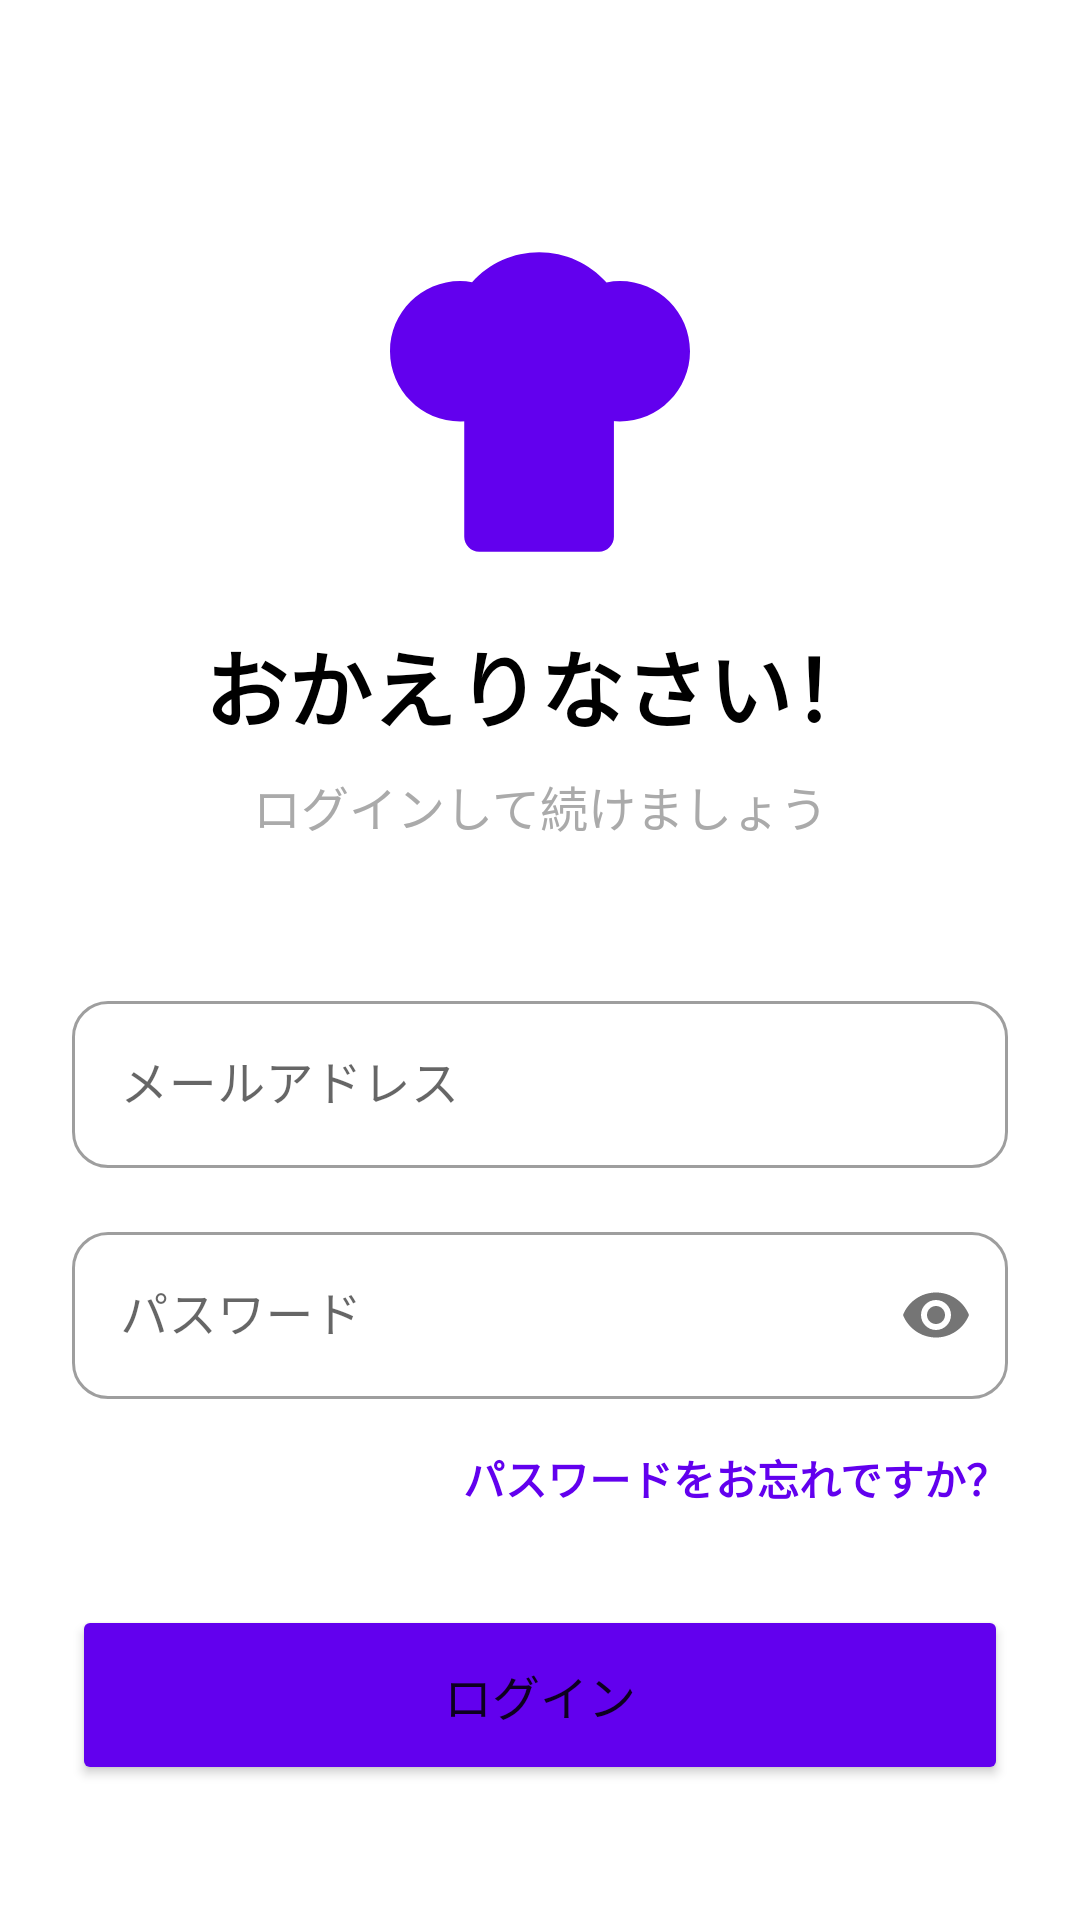

Screen size 1080×1920. Icon name, then its center in pixels as point (x, y):
chef: point (540, 402)
